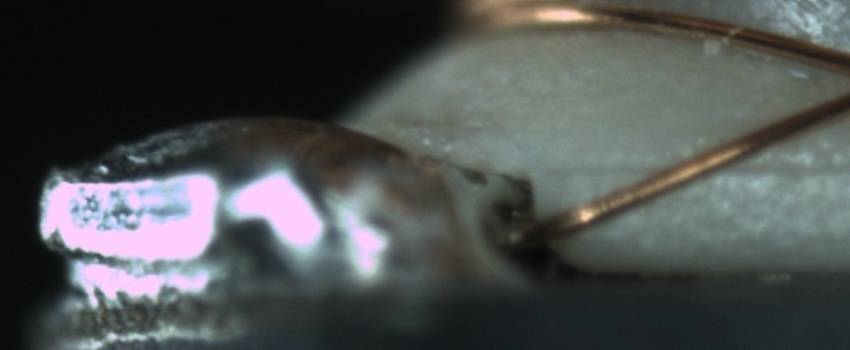DL: (568, 136, 850, 198)
